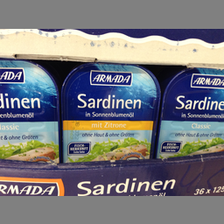fish: (58, 60, 160, 162), (1, 57, 60, 165), (159, 66, 224, 159)
